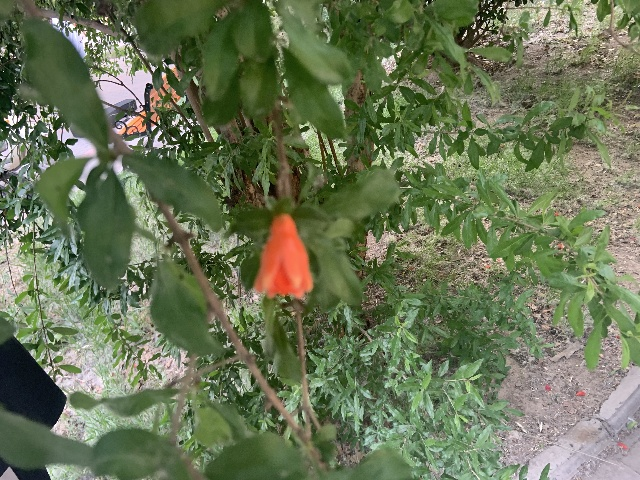flower: (252, 213, 313, 300)
